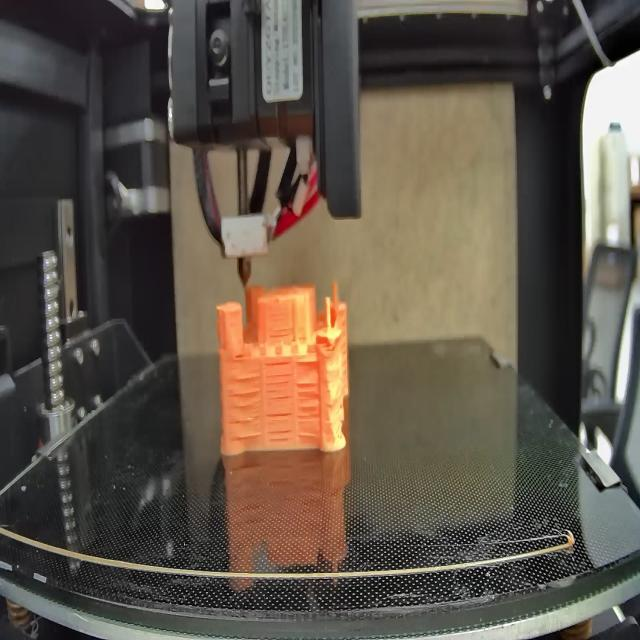cracks: (227, 374, 260, 440), (295, 379, 322, 440), (262, 353, 292, 401), (267, 408, 295, 452), (267, 327, 294, 342), (235, 348, 247, 363), (295, 360, 318, 367)
